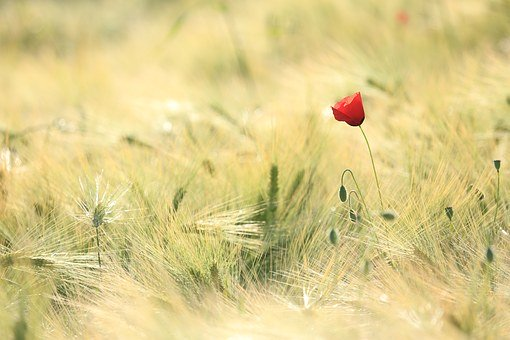field: (5, 11, 506, 340)
flower: (317, 75, 410, 268)
